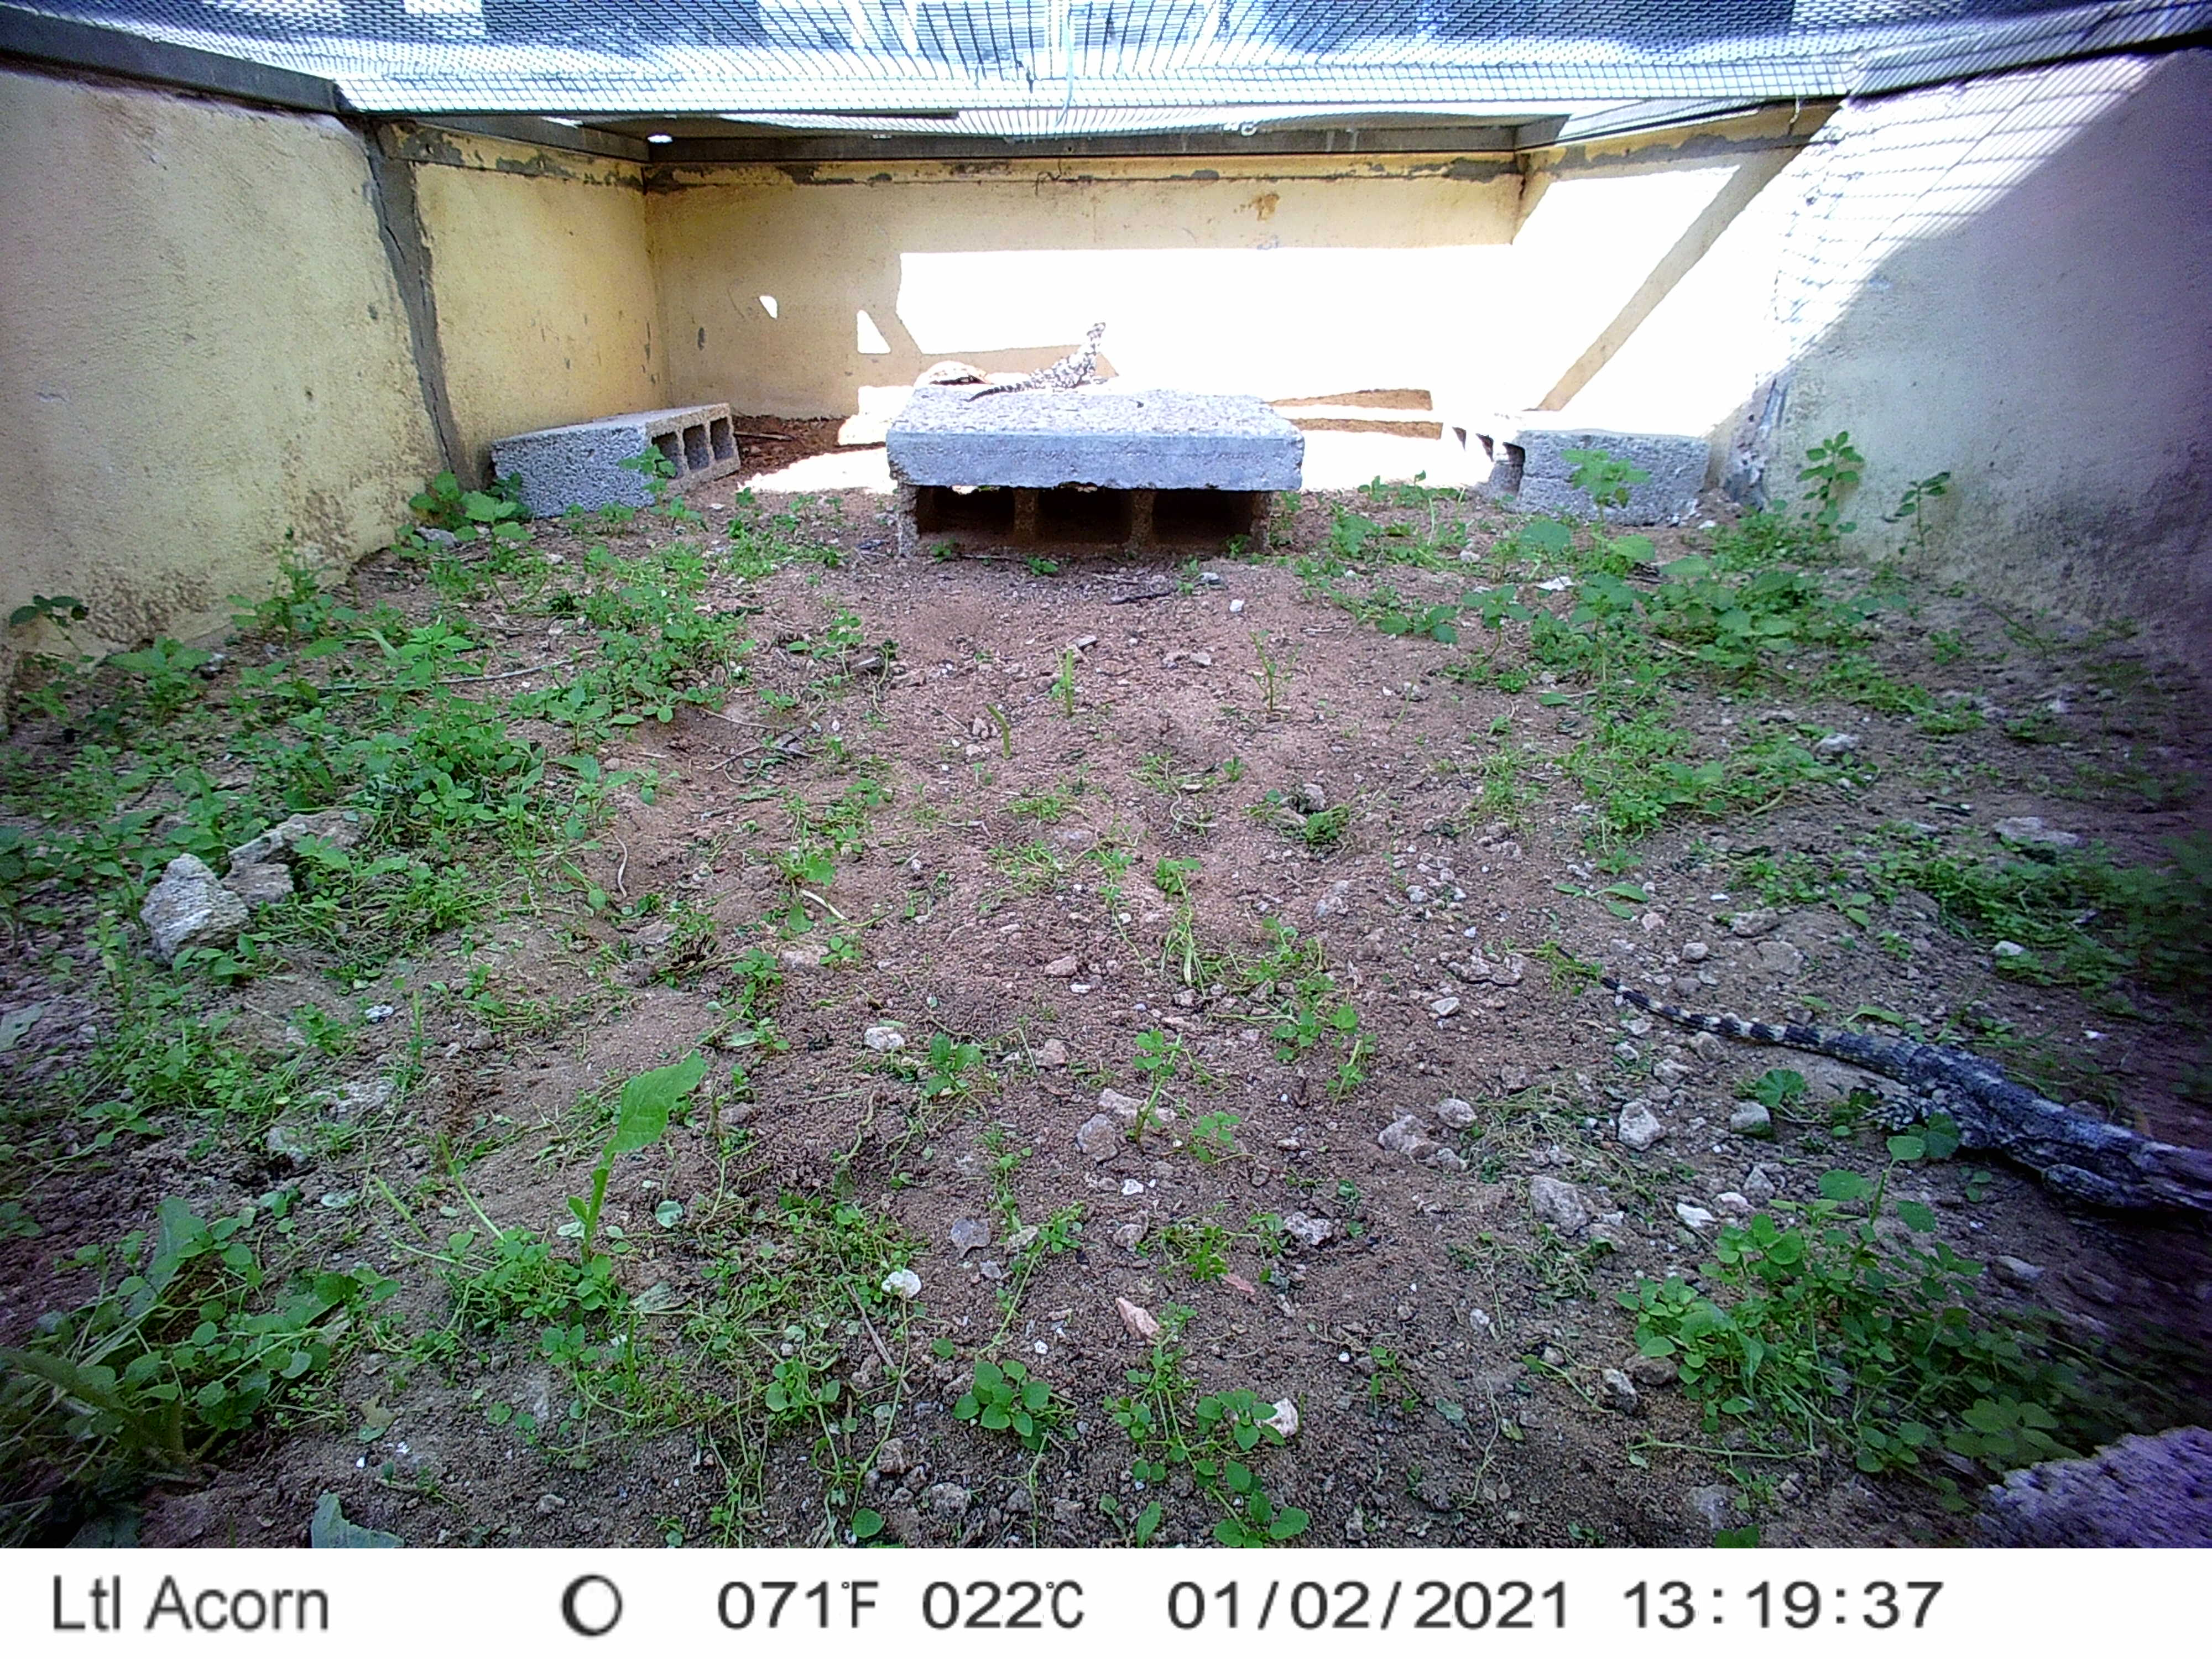lizard: (1554, 941, 2212, 1236), (954, 317, 1111, 406)
